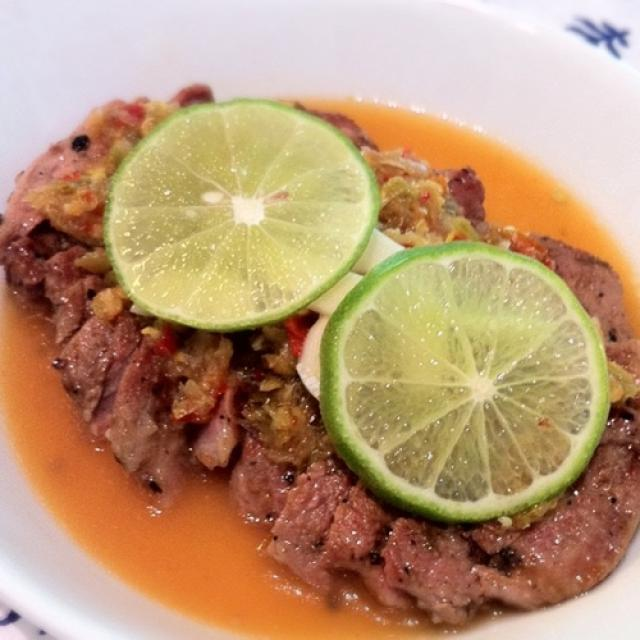猪肉菜式: (8, 8, 616, 626)
